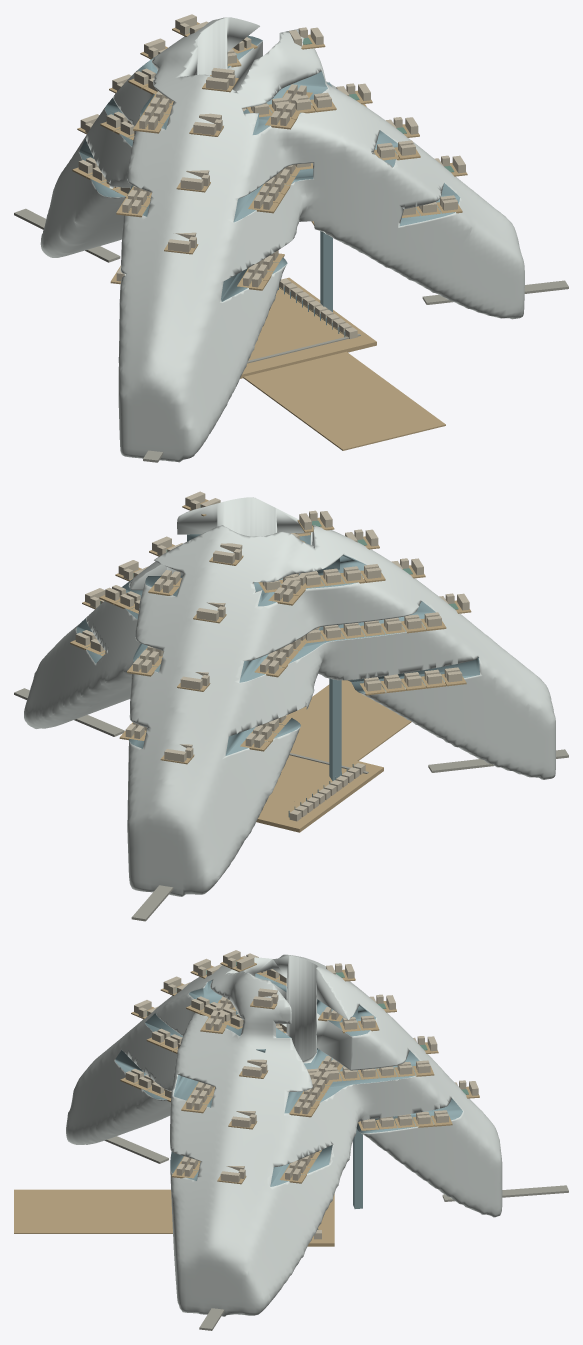
Rendered from A_CENTRAL.glb.
3 renders of one model, top to bottom at view 1: azimuth 30°, elevation 25°; view 2: azimuth 150°, elevation 25°; view 3: azimuth 270°, elevation 25°, orthographic. The views are drawn at different scales.
Parts seen in each view (by area): view 1: CIVIC_CONTINUOUS_MASS_A, arrival_court, great_public_chamber_floor, vertical_exchange_core.001; view 2: CIVIC_CONTINUOUS_MASS_A, arrival_court, great_public_chamber_floor, vertical_exchange_core, approach_route, approach_route.005; view 3: CIVIC_CONTINUOUS_MASS_A, arrival_court, vertical_exchange_core.002, great_public_chamber_floor, approach_route.005, approach_route.
Boxes of the visible parts, x1=… form: CIVIC_CONTINUOUS_MASS_A: x1=40, y1=17, x2=524, y2=462; arrival_court: x1=243, y1=351, x2=445, y2=450; great_public_chamber_floor: x1=240, y1=277, x2=376, y2=378; vertical_exchange_core.001: x1=320, y1=82, x2=332, y2=311; CIVIC_CONTINUOUS_MASS_A: x1=24, y1=497, x2=555, y2=896; arrival_court: x1=286, y1=680, x2=411, y2=760; great_public_chamber_floor: x1=256, y1=745, x2=383, y2=832; vertical_exchange_core: x1=329, y1=678, x2=341, y2=780; approach_route: x1=428, y1=759, x2=494, y2=772; approach_route.005: x1=131, y1=890, x2=171, y2=921; CIVIC_CONTINUOUS_MASS_A: x1=66, y1=954, x2=502, y2=1316; arrival_court: x1=14, y1=1189, x2=172, y2=1233; vertical_exchange_core.002: x1=353, y1=1128, x2=362, y2=1208; great_public_chamber_floor: x1=307, y1=1194, x2=334, y2=1246; approach_route.005: x1=502, y1=1185, x2=568, y2=1196; approach_route: x1=113, y1=1138, x2=168, y2=1163.
Size of the model in its own units: 4142 by 2339 by 4623.
